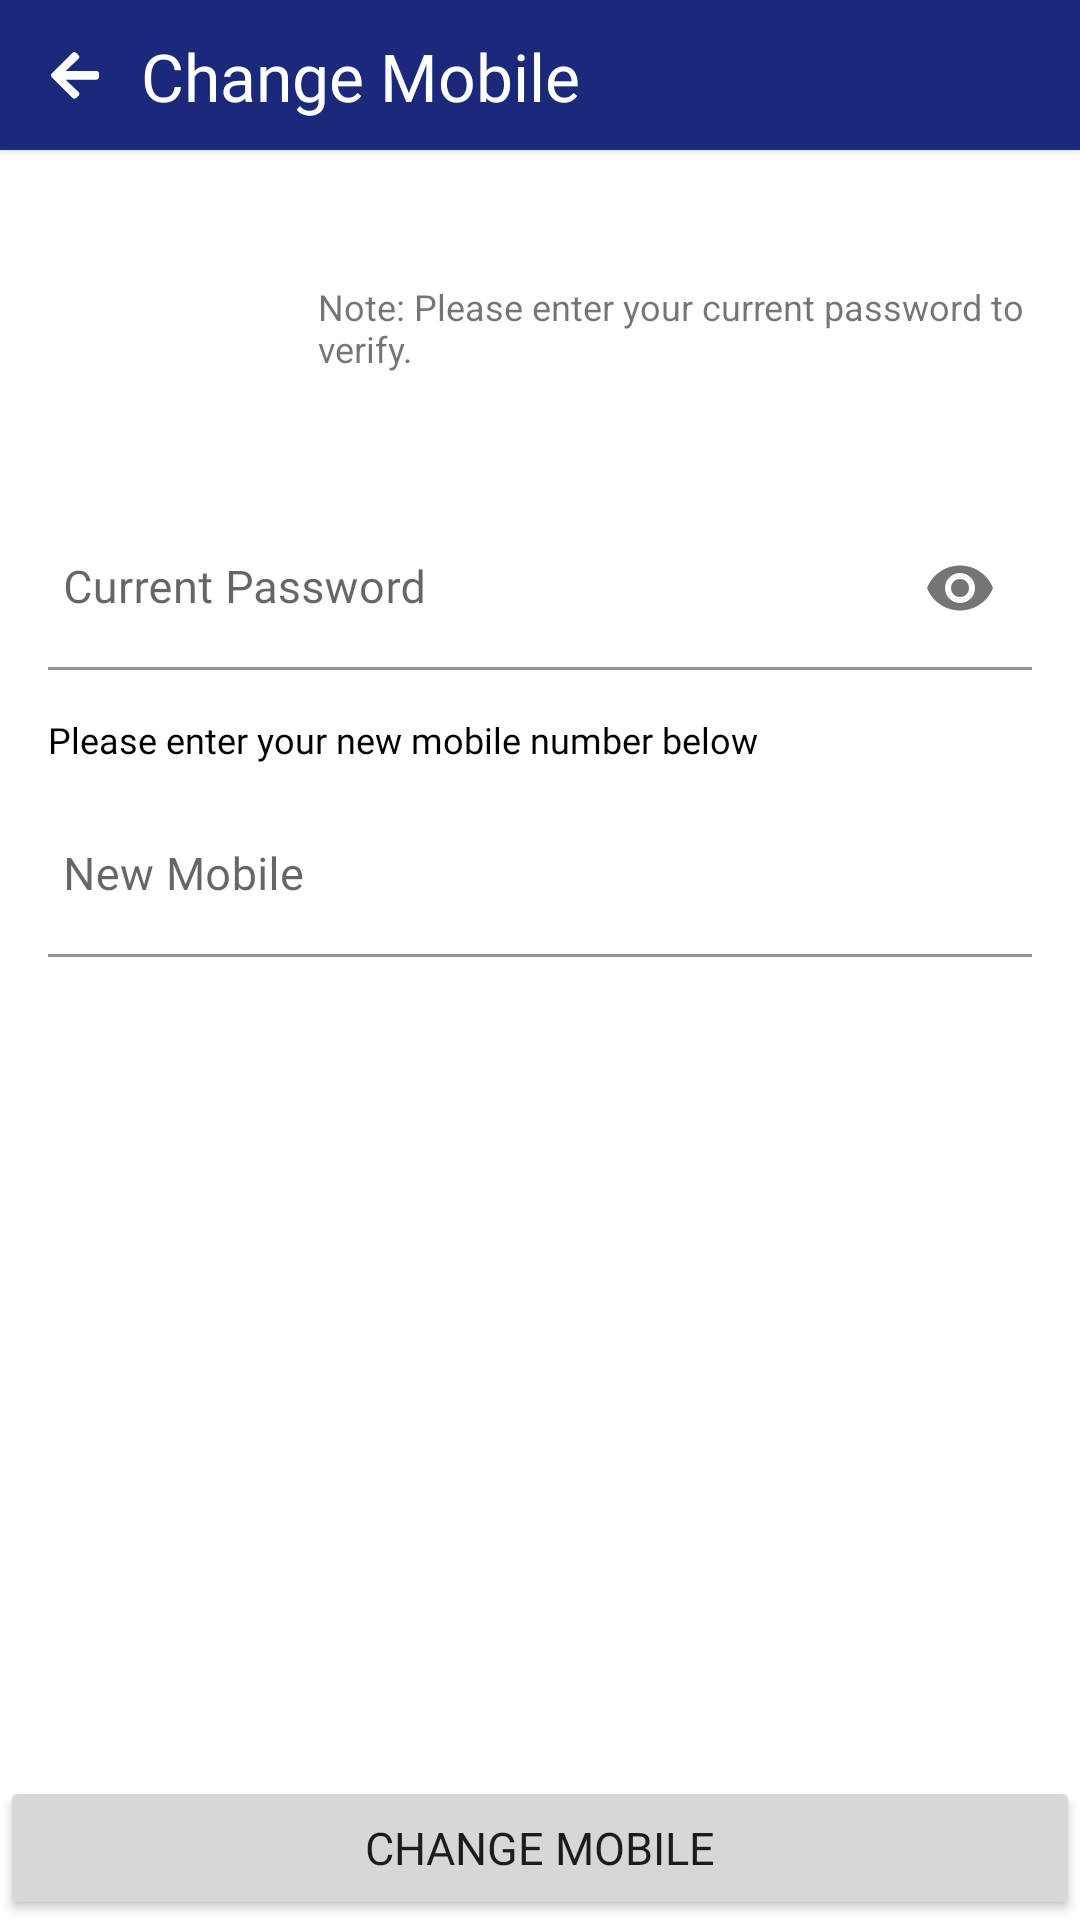

Screen size 1080*1920. Icon name, then its center in pixels as (x,y):
arrow left: (75,75)
